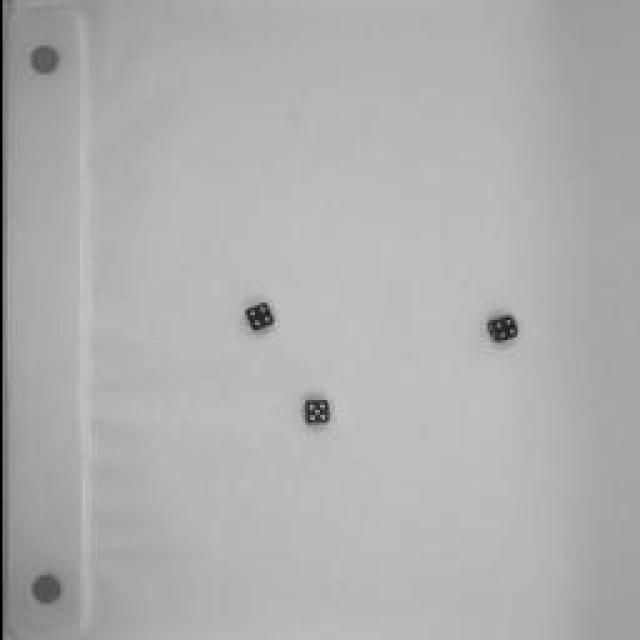dice_4: (237, 295, 275, 335), (481, 309, 521, 346)
dice_5: (296, 391, 329, 431)
